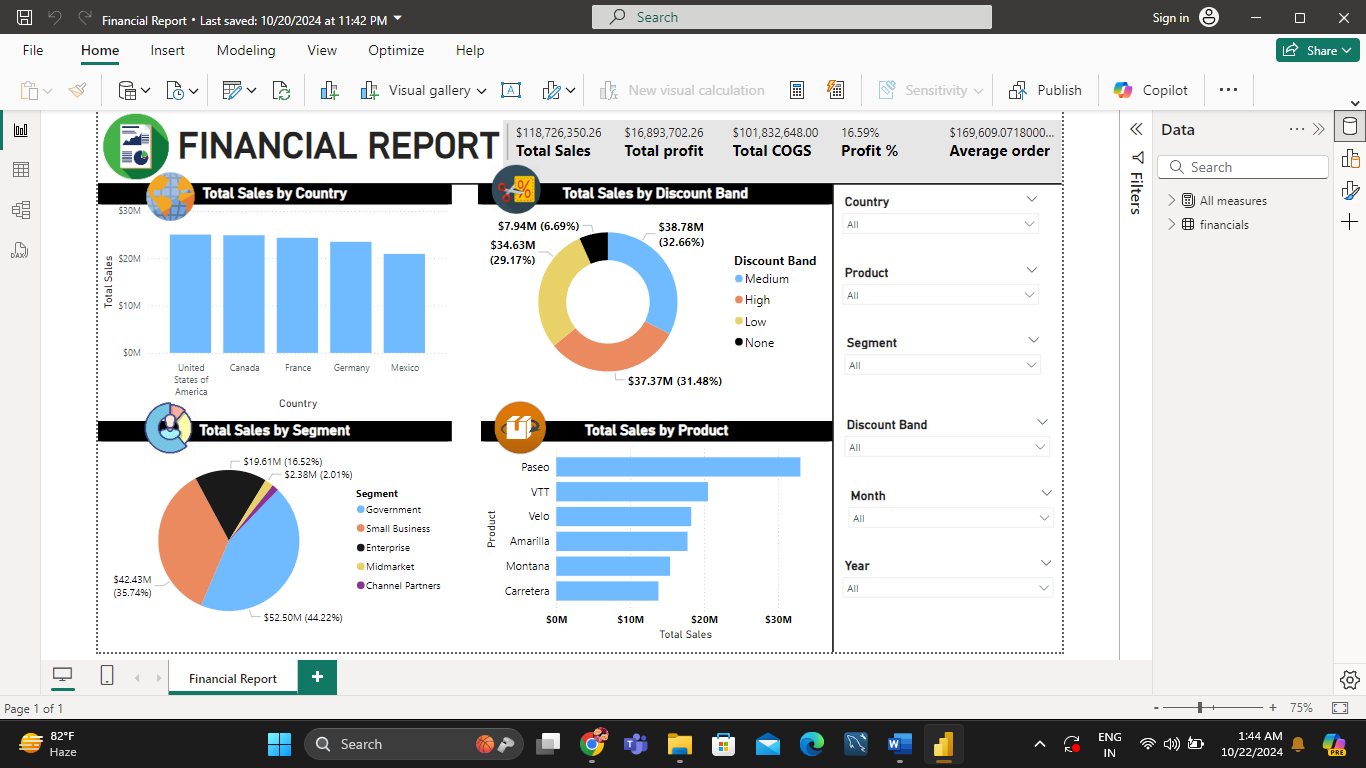

What the dashboard file says about the page in this screenshot:
{"tool":"powerbi","page":{"name":"Financial Report","canvas":[1280,720],"ordinal":0},"visuals":[{"type":"textbox","box":[101,13.2,455.1,68.8],"z":0},{"type":"image","box":[0,0,101,96.6],"z":1},{"type":"multiRowCard","fields":{"Values":["All measures.Total Sales","All measures.Total profit","All measures.Total COGS","All measures.Profit %","All measures.Average order"]},"box":[538.5,13.2,742,83.4],"z":2},{"type":"shape","box":[0,13.2,1280.5,169.8],"z":3},{"type":"columnChart","fields":{"Category":["financials.Country"],"Y":["All measures.Total Sales"]},"box":[0,98,469.8,304.4],"z":4},{"type":"slicer","fields":{"Values":["financials.Country"]},"box":[979,106.8,281,87.8],"z":5},{"type":"pieChart","fields":{"Y":["All measures.Total Sales"],"Category":["financials.Segment"]},"box":[0,412.7,469.8,295.6],"z":6},{"type":"barChart","fields":{"Y":["All measures.Total Sales"],"Category":["financials.Product"]},"box":[509.3,412.7,466.8,295.6],"z":7},{"type":"donutChart","fields":{"Y":["All measures.Total Sales"],"Category":["financials.Discount Band"]},"box":[504.9,98,471.2,291.2],"z":8},{"type":"shape","box":[832.7,98,286.8,622],"z":9},{"type":"slicer","fields":{"Values":["financials.Product"]},"box":[979,200.5,281,93.7],"z":10},{"type":"slicer","fields":{"Values":["financials.Segment"]},"box":[982,294.1,281,84.9],"z":11},{"type":"slicer","fields":{"Values":["financials.Discount Band"]},"box":[982,402.4,292.7,82],"z":12},{"type":"image","box":[51.2,46.8,89.3,136.1],"z":13},{"type":"image","box":[518,48.3,74.6,115.6],"z":14},{"type":"image","box":[55.6,361.5,80.5,122.9],"z":15},{"type":"image","box":[518,360,86.3,124.4],"z":16},{"type":"slicer","fields":{"Values":["financials.Month Name"]},"box":[986.8,497,293.2,93],"z":17},{"type":"slicer","fields":{"Values":["financials.Year"]},"box":[979.7,589.9,300.3,98.3],"z":18}]}

Visuals, with their boxes on the page's 1280x720 design canvas (x1, y1, x2, y2). These are canvas units, not pixel positions in the 1366x768 screenshot, which may show the page scaled, cropped or inside an application window:
textbox: 101:13:556:82
image: 0:0:101:97
multiRowCard - All measures.Total Sales x All measures.Total profit: 538:13:1280:97
shape: 0:13:1280:183
columnChart - financials.Country x All measures.Total Sales: 0:98:470:402
slicer - financials.Country: 979:107:1260:195
pieChart - All measures.Total Sales x financials.Segment: 0:413:470:708
barChart - All measures.Total Sales x financials.Product: 509:413:976:708
donutChart - All measures.Total Sales x financials.Discount Band: 505:98:976:389
shape: 833:98:1120:720
slicer - financials.Product: 979:200:1260:294
slicer - financials.Segment: 982:294:1263:379
slicer - financials.Discount Band: 982:402:1275:484
image: 51:47:140:183
image: 518:48:593:164
image: 56:362:136:484
image: 518:360:604:484
slicer - financials.Month Name: 987:497:1280:590
slicer - financials.Year: 980:590:1280:688
